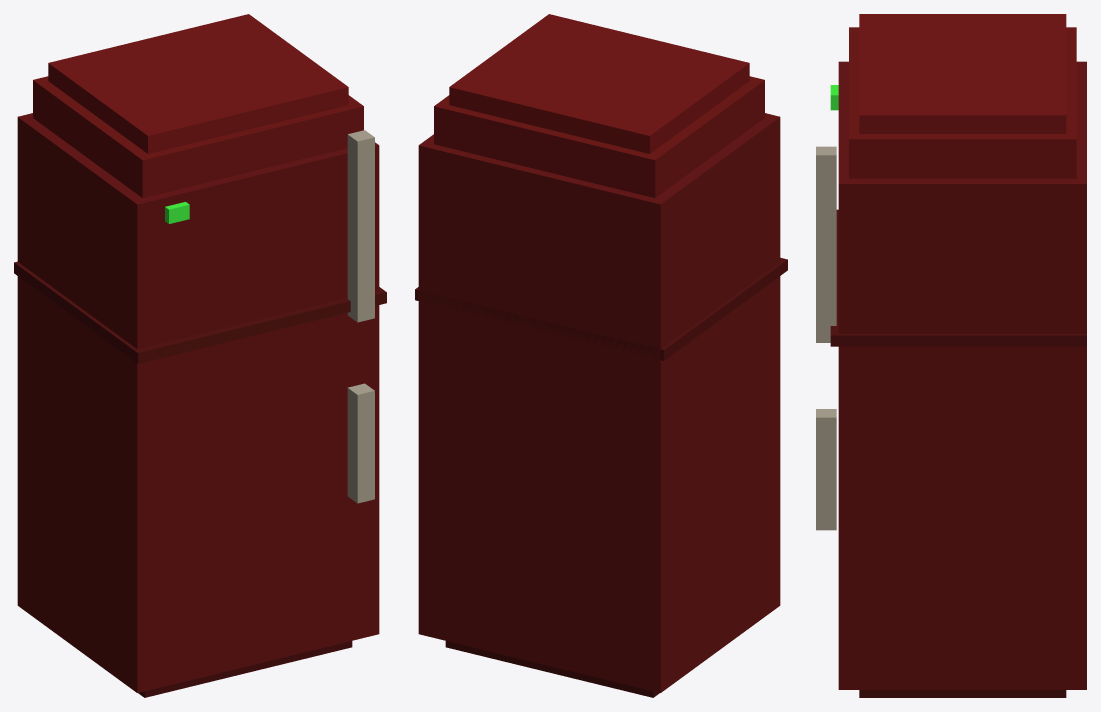
The model's file is fridge.obj.
3 views of the same model, side by side, from view 1: azimuth 30°, elevation 25°; view 2: azimuth 150°, elevation 25°; view 3: azimuth 270°, elevation 25° (orthographic). The views are drawn at different scales.
Size of the model in its own units: 0.72 by 1.55 by 0.655.
